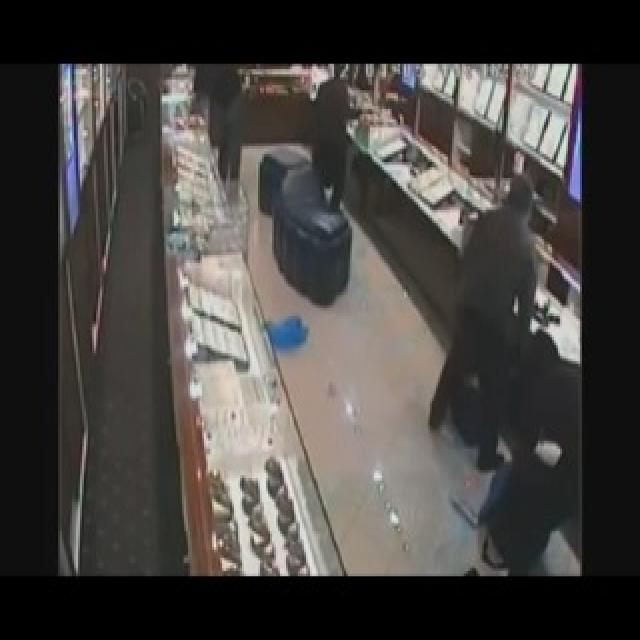thief: (430, 180, 582, 577), (307, 70, 357, 211)
